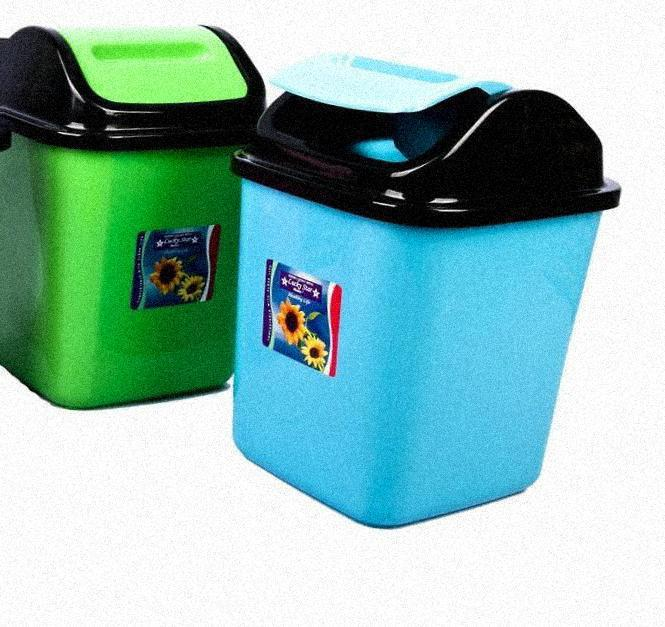Bote de Basura: (225, 39, 620, 538), (0, 36, 250, 406)
